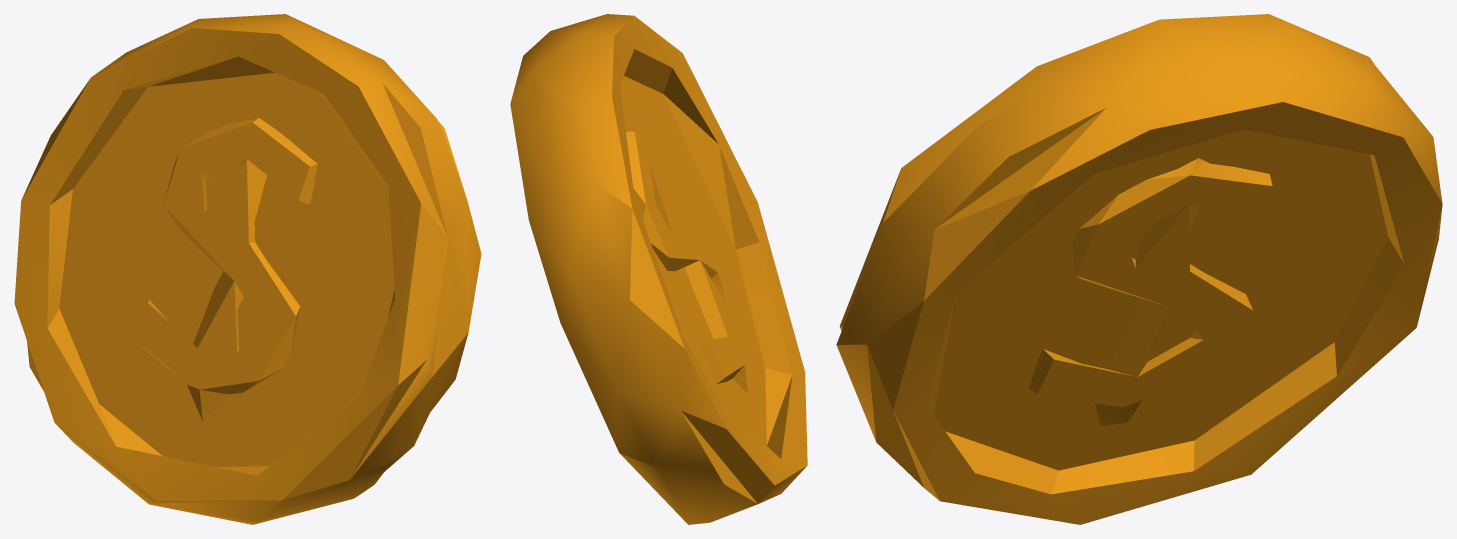
File: Dollar+Coin.fbx
The picture shows the model from 3 angles, left to right: view 1: azimuth 30°, elevation 25°; view 2: azimuth 150°, elevation 25°; view 3: azimuth 270°, elevation 25°; orthographic projection. The views are drawn at different scales.
Parts seen in each view (by area): view 1: Coin_LOD0; view 2: Coin_LOD0; view 3: Coin_LOD0.
Boxes of the visible parts, x1=… form: Coin_LOD0: x1=14, y1=14, x2=481, y2=524; Coin_LOD0: x1=510, y1=14, x2=807, y2=524; Coin_LOD0: x1=836, y1=14, x2=1442, y2=524.
Size of what is drawn, in the model's own units: 135 by 186 by 189.
